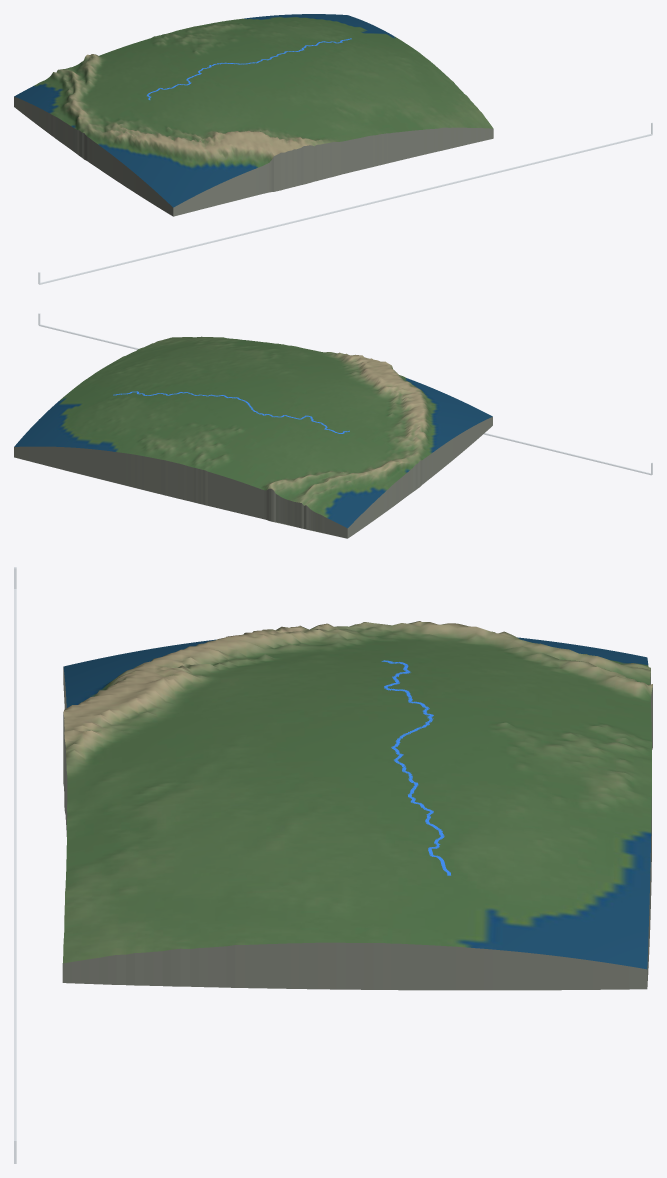
The model's file is amazon-river-geography.glb.
3 renders of one model, top to bottom at view 1: azimuth 30°, elevation 25°; view 2: azimuth 150°, elevation 25°; view 3: azimuth 270°, elevation 25°, orthographic. The views are drawn at different scales.
Parts seen in each view (by area): view 1: Geographic terrain, Opaque terrain sides and base, Straightened total-length reference; view 2: Geographic terrain, Opaque terrain sides and base, Straightened total-length reference, Partial Amazonas mainstem (does not reach Atlantic) (display; view 3: Geographic terrain, Opaque terrain sides and base, Straightened total-length reference, Partial Amazonas mainstem (does not reach Atlantic) (display.
Boxes of the visible parts, x1=… form: Geographic terrain: x1=14, y1=14, x2=493, y2=207; Opaque terrain sides and base: x1=14, y1=96, x2=493, y2=216; Straightened total-length reference: x1=39, y1=134, x2=652, y2=284; Geographic terrain: x1=14, y1=336, x2=492, y2=528; Opaque terrain sides and base: x1=14, y1=417, x2=492, y2=538; Straightened total-length reference: x1=39, y1=324, x2=651, y2=475; Partial Amazonas mainstem (does not reach Atlantic) (display: x1=113, y1=391, x2=349, y2=433; Geographic terrain: x1=62, y1=621, x2=652, y2=969; Opaque terrain sides and base: x1=62, y1=667, x2=652, y2=990; Straightened total-length reference: x1=14, y1=589, x2=16, y2=1163; Partial Amazonas mainstem (does not reach Atlantic) (display: x1=381, y1=660, x2=450, y2=875.
Bounding box in the file's own units: 6413 × 725 × 3017.
4 materials, 1 textured.
